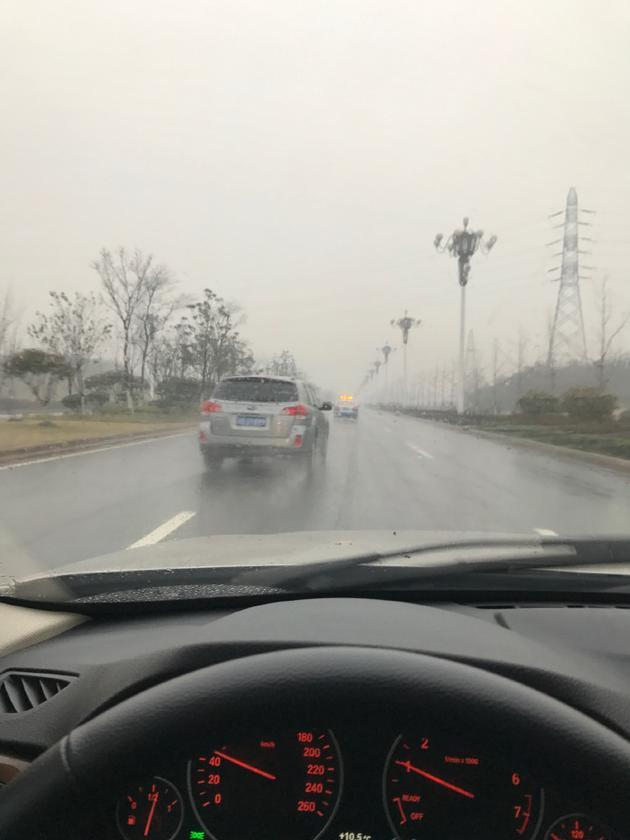car: (195, 374, 335, 477), (333, 398, 362, 419)
